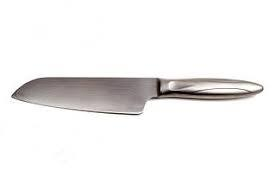Knife: (11, 76, 263, 115)
